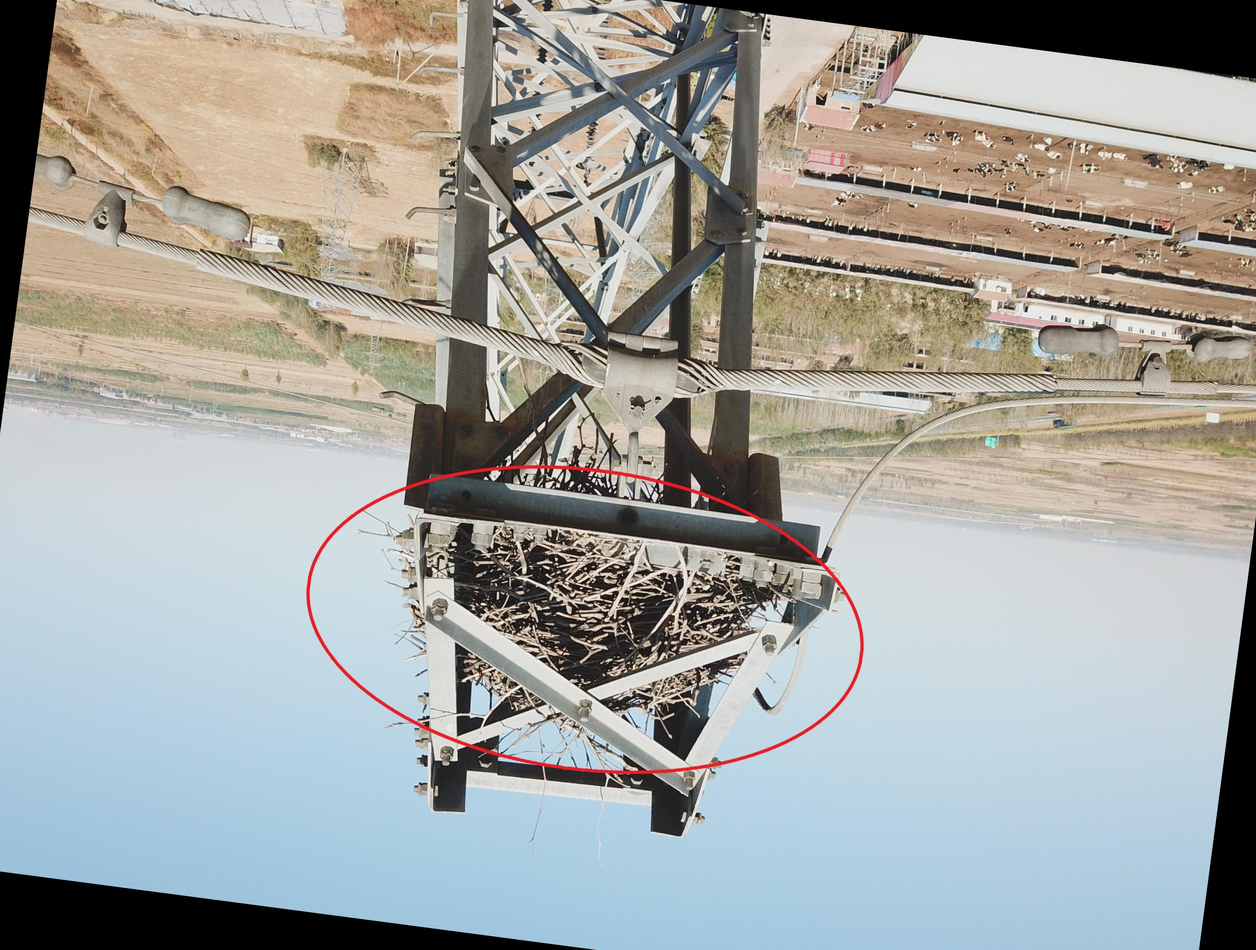damper: (23, 147, 267, 274), (1023, 300, 1256, 420)
